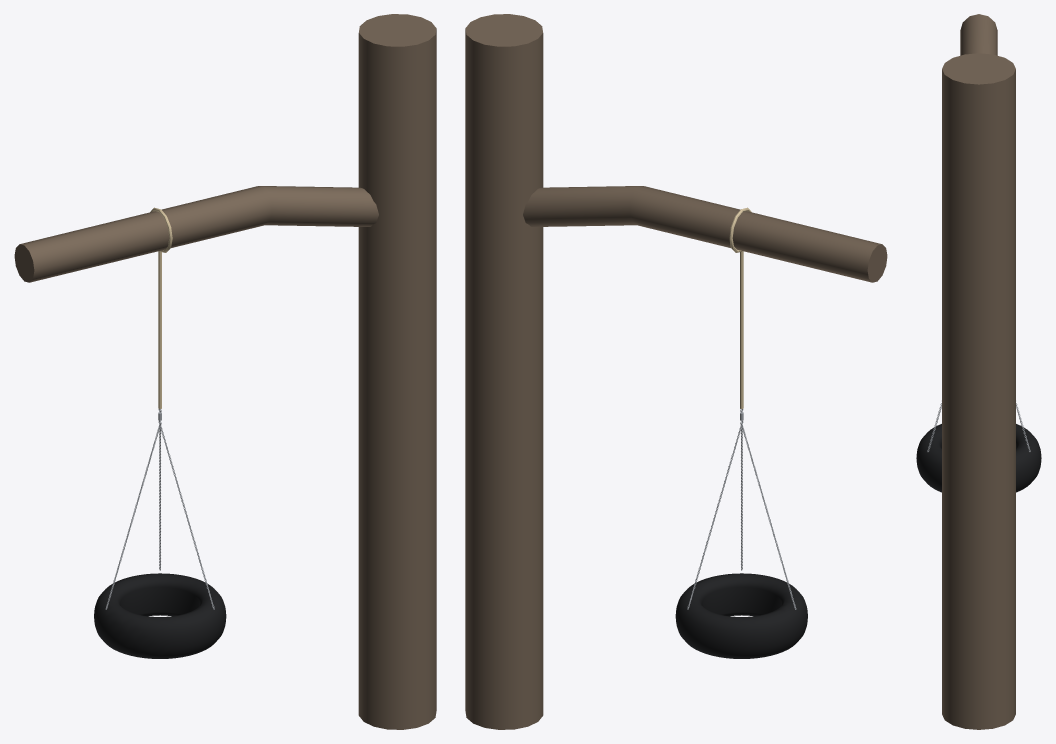
The model's file is swing_tire.glb.
3 renders of one model, left to right at view 1: azimuth 30°, elevation 25°; view 2: azimuth 150°, elevation 25°; view 3: azimuth 270°, elevation 25°, orthographic. The views are drawn at different scales.
Visible parts, largest first — view 1: swing_tire, spin_swing_tire; view 2: swing_tire, spin_swing_tire; view 3: swing_tire, spin_swing_tire.
Boxes of the visible parts, box(x1,y1,x2,y2) form: swing_tire: box(14, 14, 436, 729); spin_swing_tire: box(94, 417, 226, 658); swing_tire: box(465, 14, 887, 729); spin_swing_tire: box(675, 417, 807, 658); swing_tire: box(942, 14, 1015, 729); spin_swing_tire: box(916, 403, 1041, 492).
Bounding box in the file's own units: 2.4 × 3.85 × 0.676.
